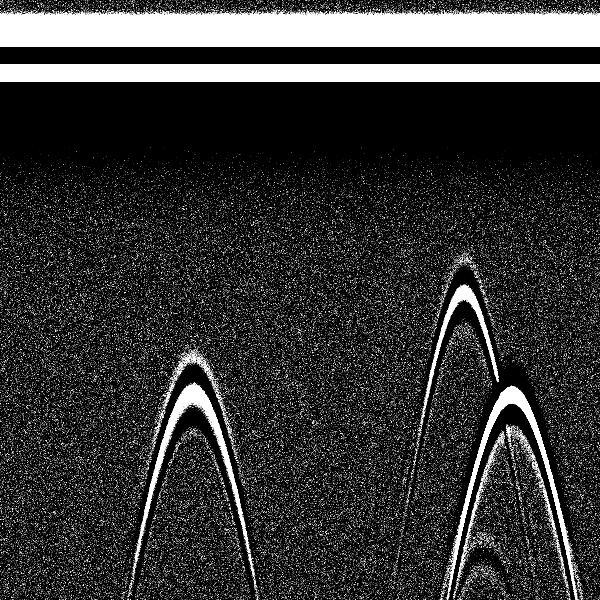pipe: (147, 4, 241, 448), (469, 6, 561, 455), (427, 6, 501, 341)
